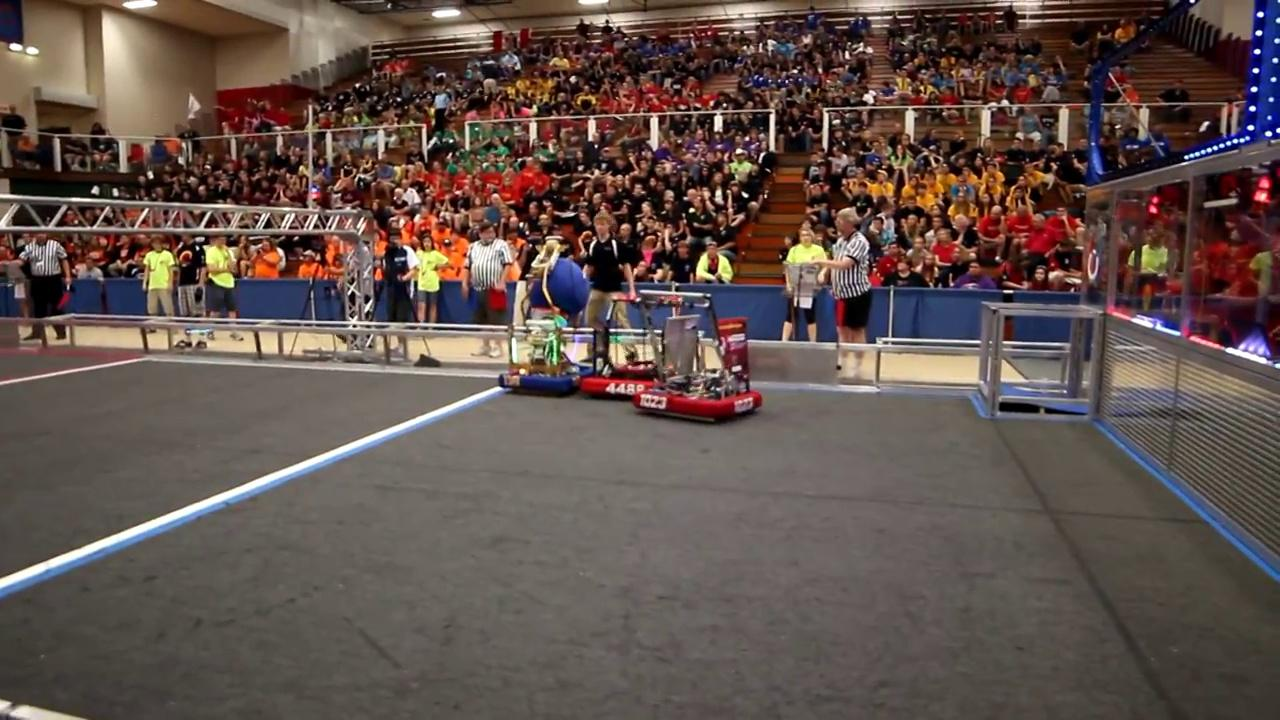robot: (632, 287, 765, 426), (495, 244, 592, 397), (580, 288, 685, 403)
